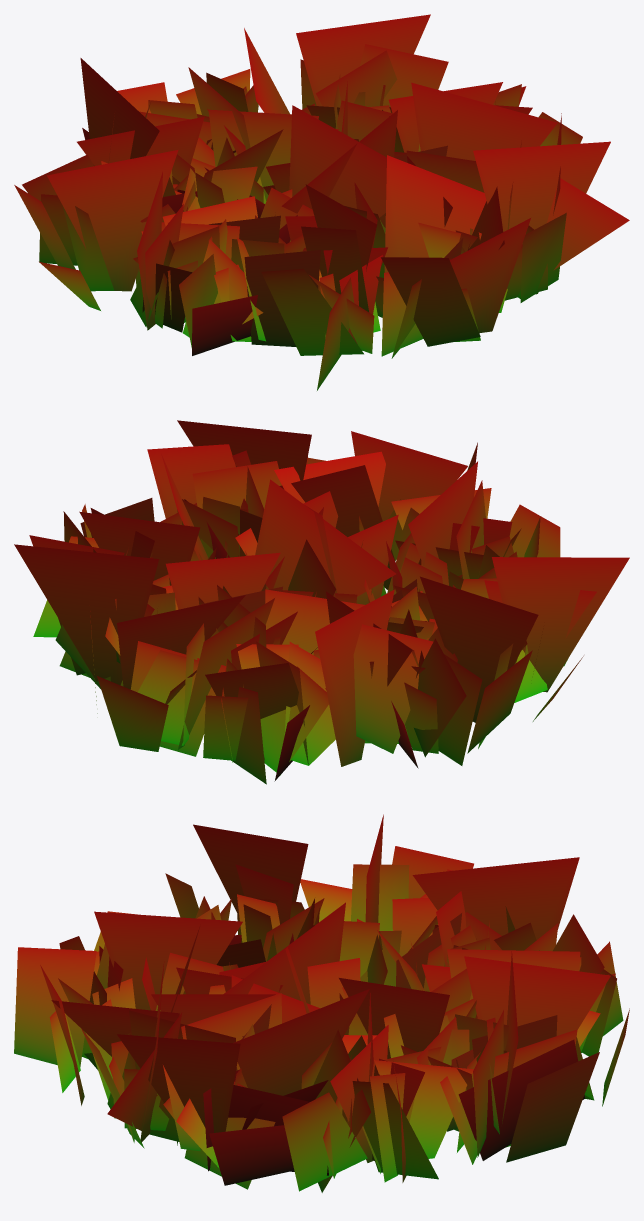
The model's file is Var1_LOD2.fbx.
3 views of the same model, one above another, from view 1: azimuth 30°, elevation 25°; view 2: azimuth 150°, elevation 25°; view 3: azimuth 270°, elevation 25° (orthographic). The views are drawn at different scales.
Visible parts, largest first — view 1: _518a_Var1_LOD2; view 2: _518a_Var1_LOD2; view 3: _518a_Var1_LOD2.
Boxes of the visible parts, x1,y1,x2,y2 form: _518a_Var1_LOD2: (14, 14, 629, 390); _518a_Var1_LOD2: (14, 420, 629, 784); _518a_Var1_LOD2: (14, 814, 629, 1192).
Size of the model in its own units: 85.45 by 28.51 by 85.46.
